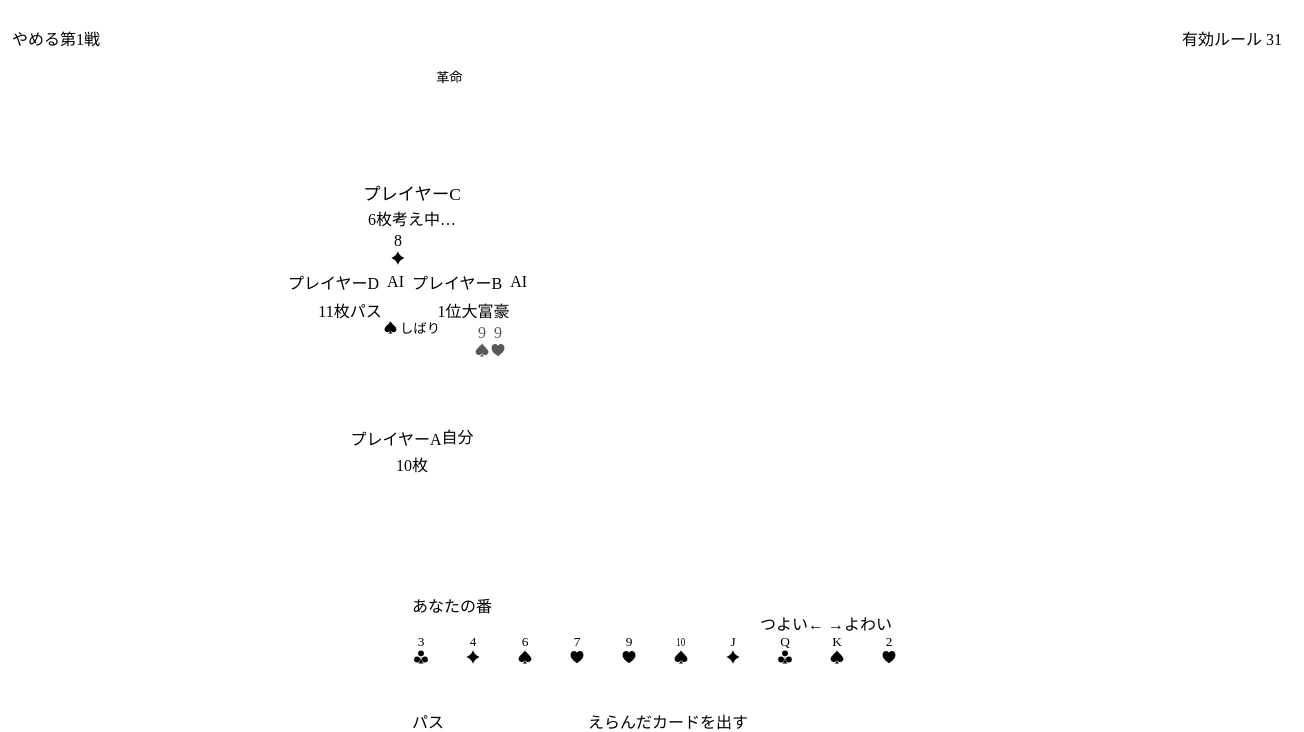
Test: DS-02: フェーズ 1 の主要画面が 1 本の導線でつながる › カットインは進行をブロックせず、タップでとばせる
Click the button named "クラブの3": (438, 671) [412,633,464,709]
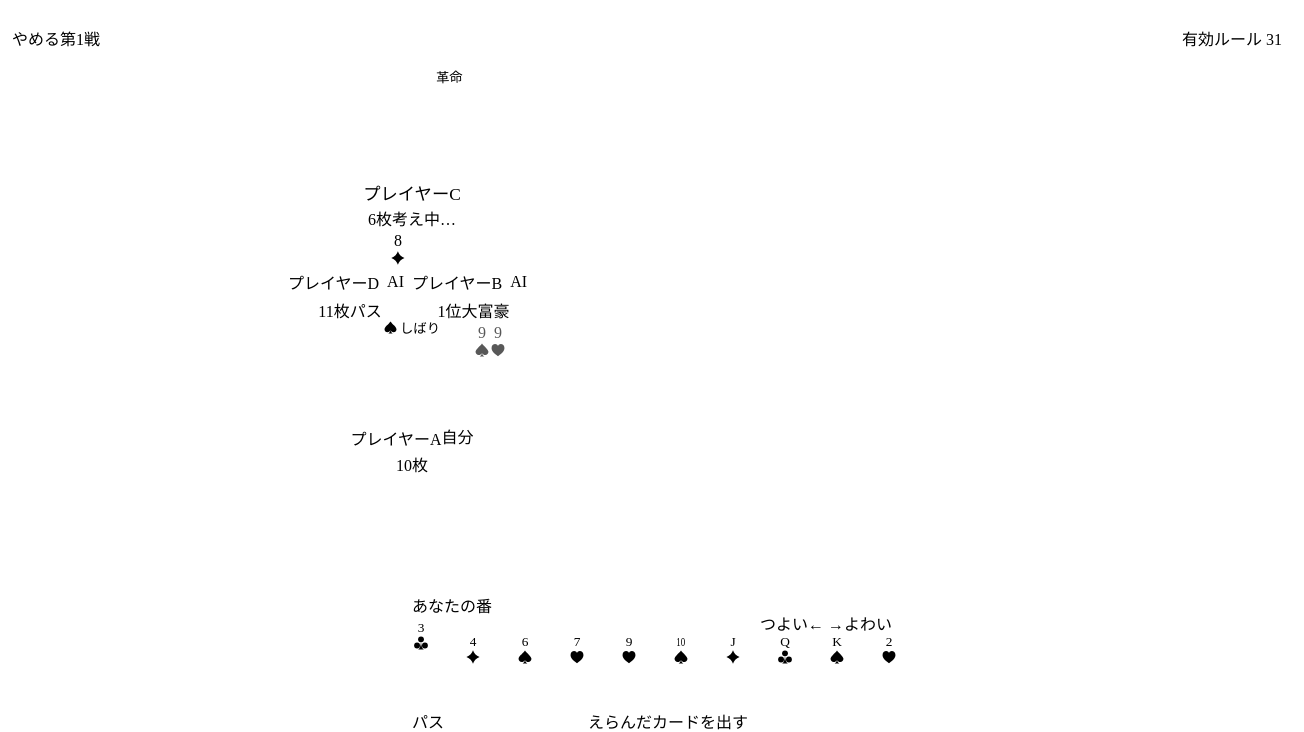
Click the button "えらんだカードを出す": (668, 722) [444,713,892,731]
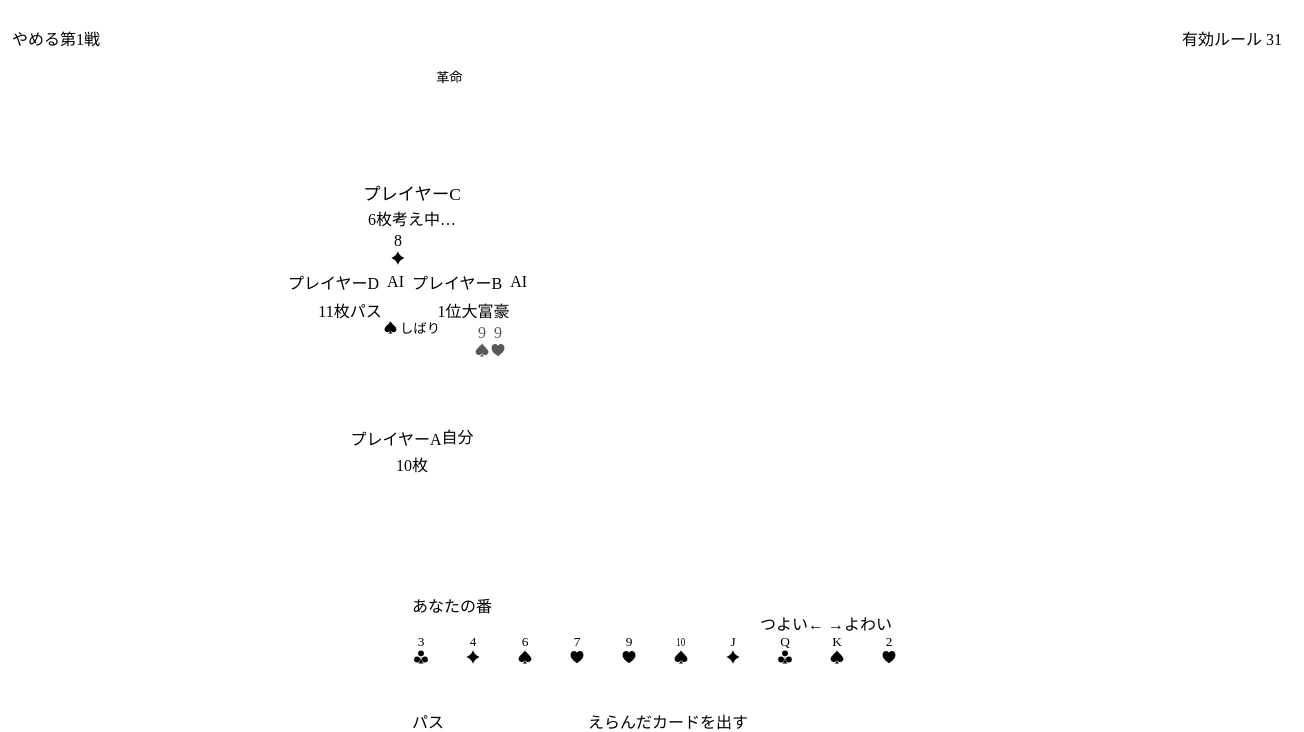
Click the button named "演出をとばす": (652, 372) [12,12,1292,731]
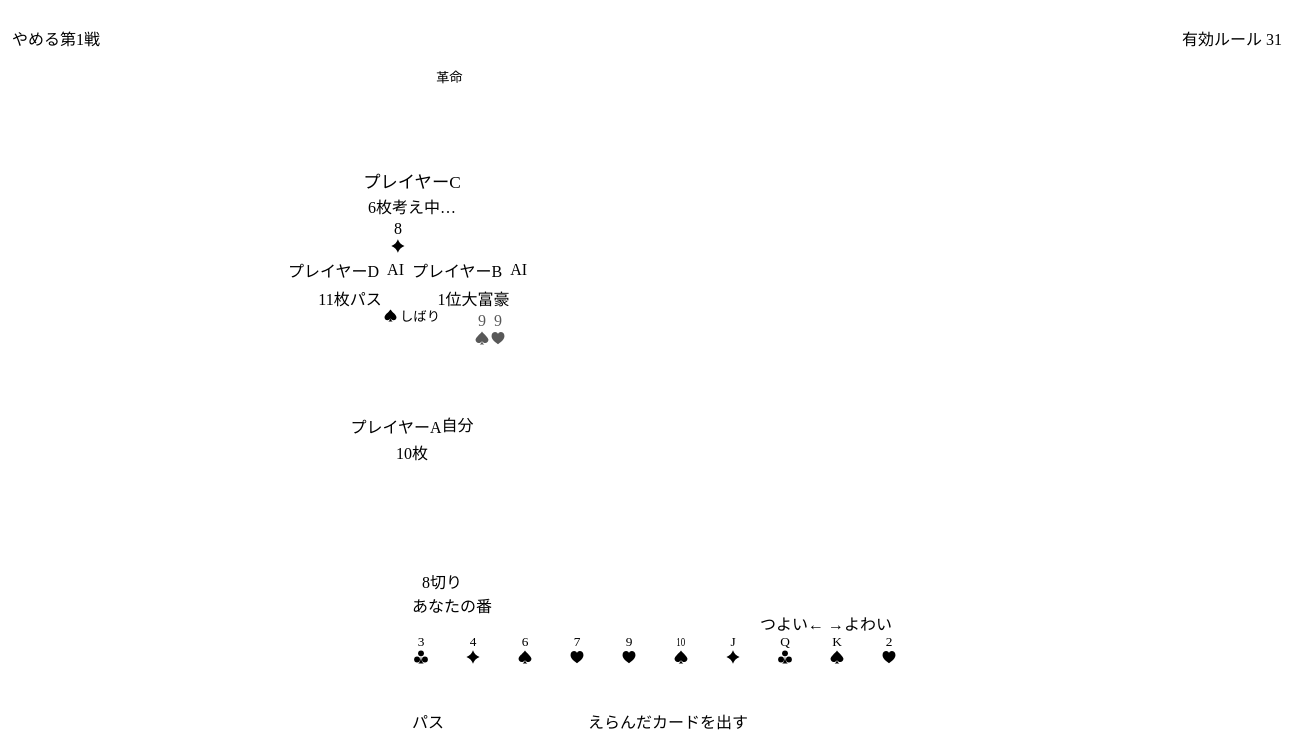
expect the button "演出をとばす" is gone: met
expect the button "8切り" is shown: met, box [412,569,462,593]
